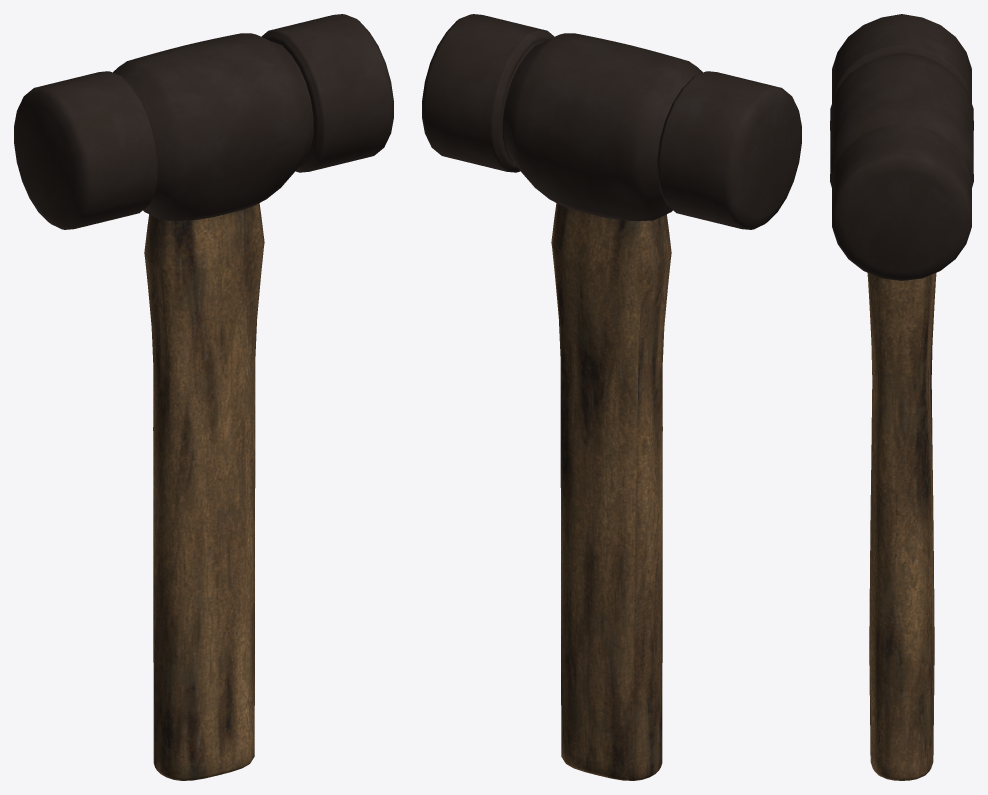
File: ForgeHammer.fbx
3 views of the same model, side by side, from view 1: azimuth 30°, elevation 25°; view 2: azimuth 150°, elevation 25°; view 3: azimuth 270°, elevation 25° (orthographic). The views are drawn at different scales.
Parts seen in each view (by area): view 1: ForgeHammer; view 2: ForgeHammer; view 3: ForgeHammer.
Boxes of the visible parts, left/top/right/bottom form: ForgeHammer: left=14, top=14, right=393, bottom=780; ForgeHammer: left=422, top=14, right=801, bottom=780; ForgeHammer: left=830, top=14, right=973, bottom=780.
Bounding box in the file's own units: 0.0939 × 0.2008 × 0.0385.
Materials: 2 (2 with a texture image).
